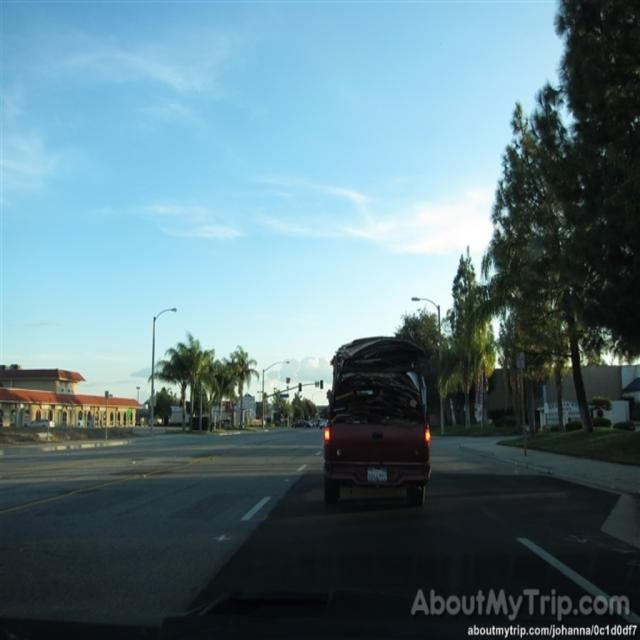car: (318, 339, 442, 509)
